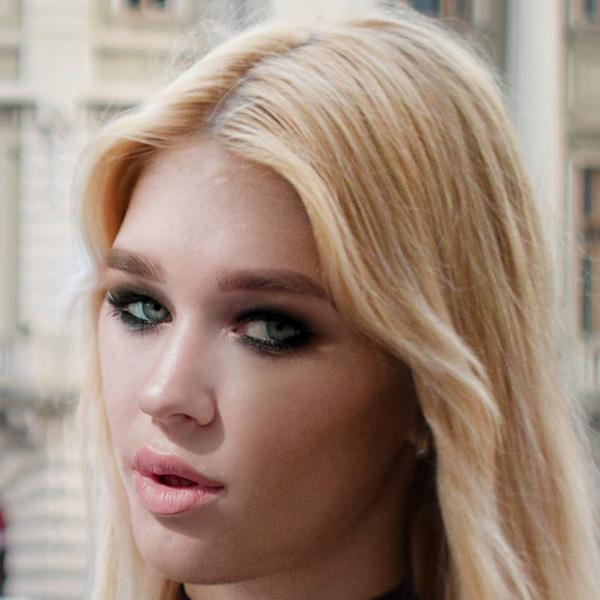Eyes: (213, 298, 322, 367), (100, 277, 175, 338)
